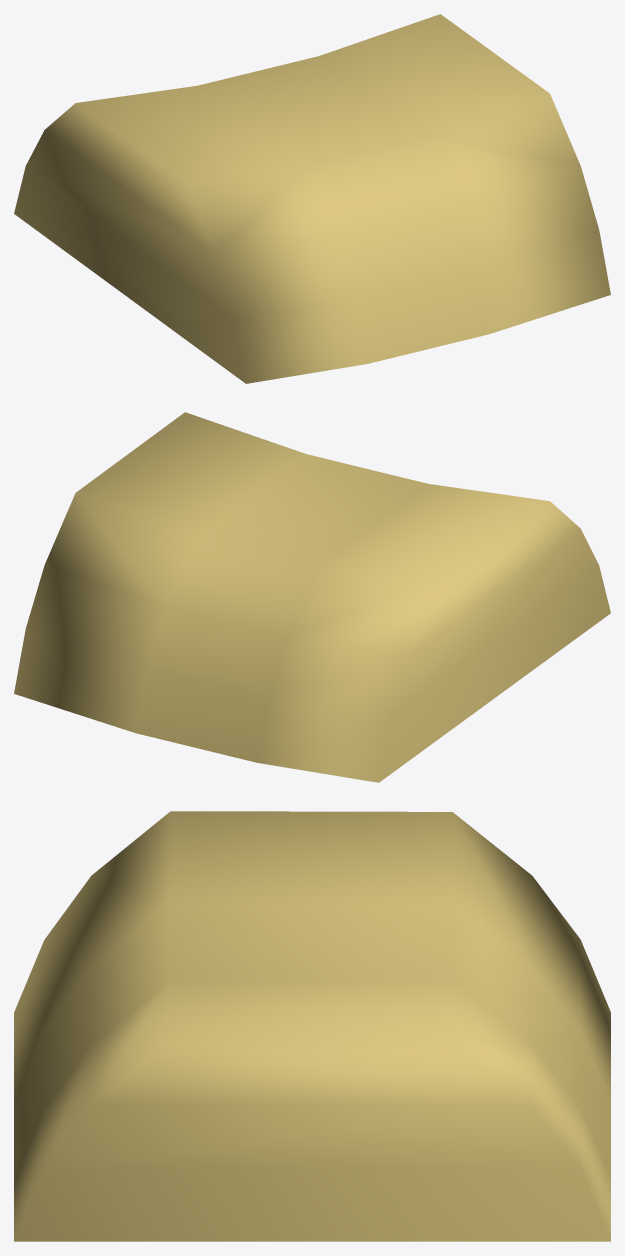
Rendered from Building_C_8.fbx.
3 renders of one model, top to bottom at view 1: azimuth 30°, elevation 25°; view 2: azimuth 150°, elevation 25°; view 3: azimuth 270°, elevation 25°, orthographic. The views are drawn at different scales.
Visible parts, largest first — view 1: Building_C_8; view 2: Building_C_8; view 3: Building_C_8.
Part boxes in pixels (x1,y1,x2,y2): Building_C_8: [14, 14, 610, 383]; Building_C_8: [14, 412, 610, 782]; Building_C_8: [14, 811, 610, 1241].
Size of the model in its own units: 418 by 182 by 460.
